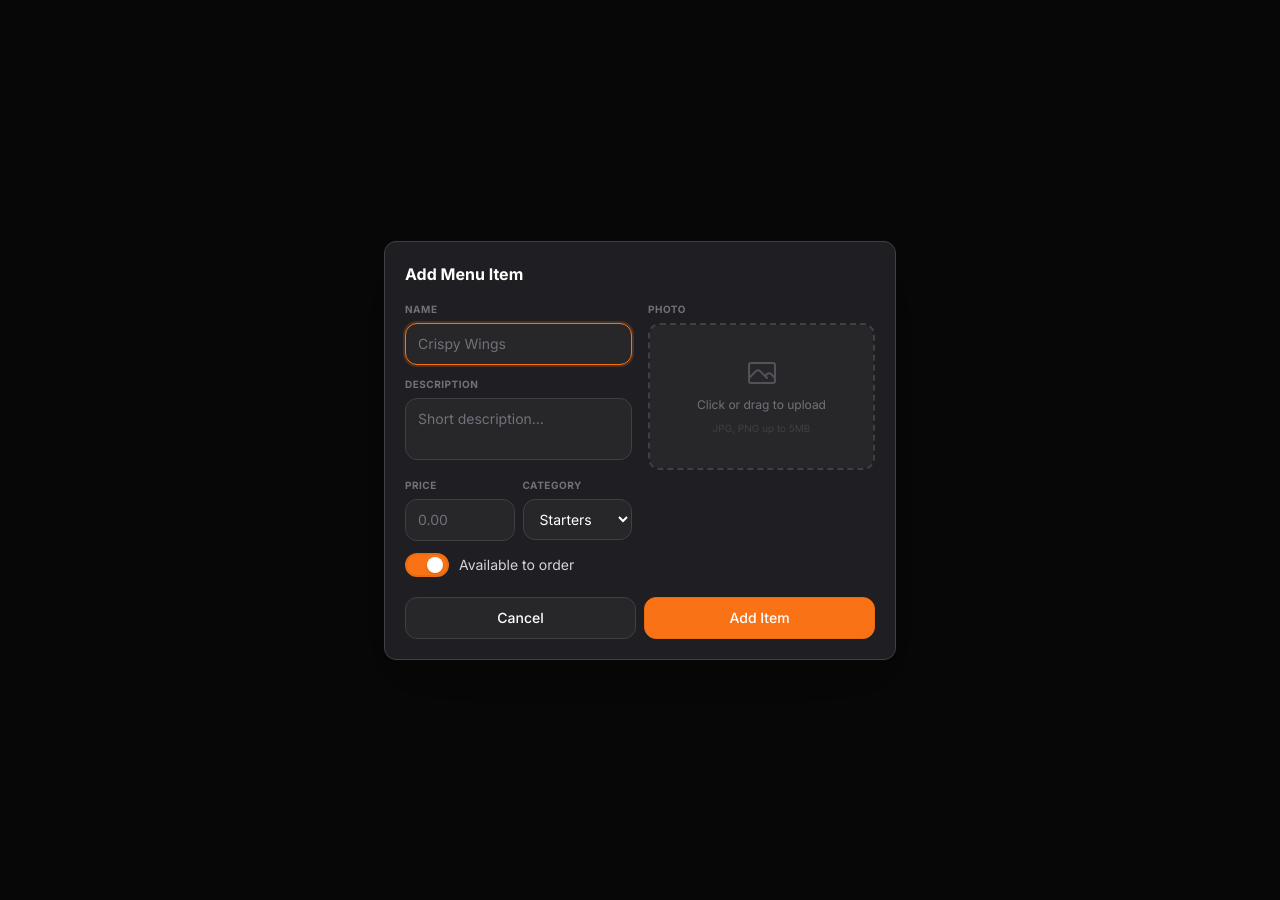
Test: invalid input shows a message and does not save
The image size is (1280, 900).
Click the button "Add Item" at {"x": 760, "y": 618}, box top-left (644, 596), bottom-right (875, 638)
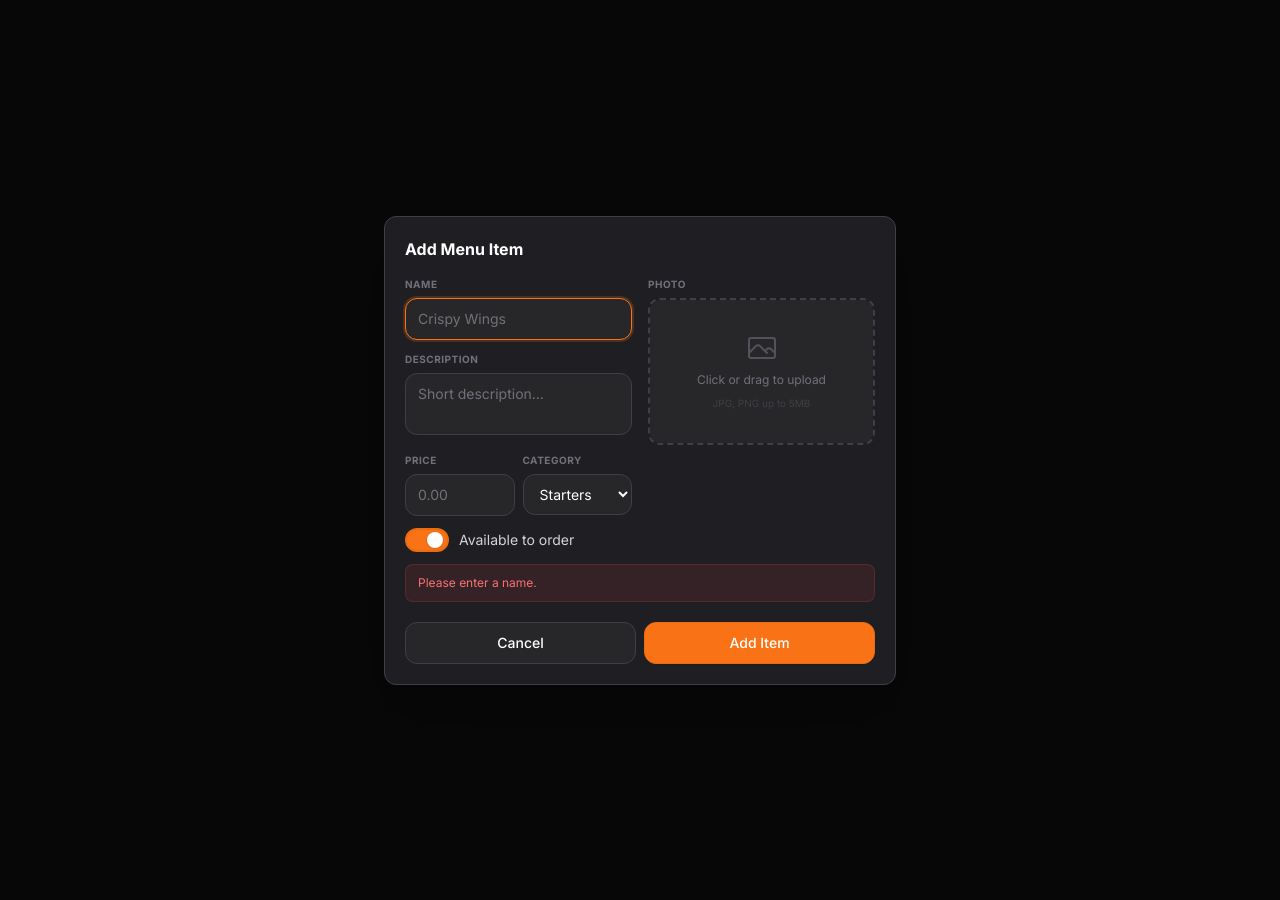
Result: the message shows "name" at top-left (418, 574), bottom-right (537, 590)
